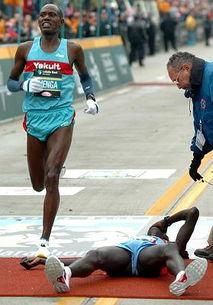down: (41, 200, 209, 302)
up: (1, 1, 101, 248)
